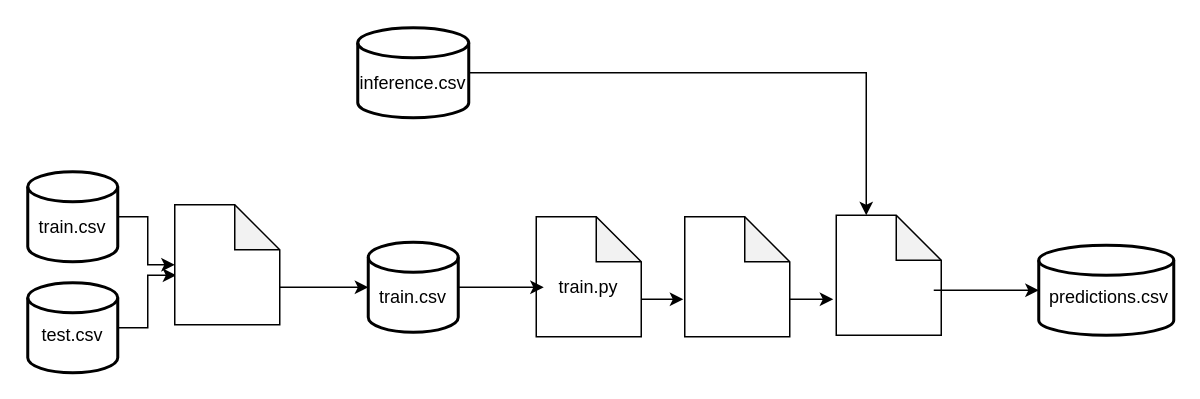
The diagram is 1200 pixels wide and 399 high, and some of its shapes have lost their labels. The shapes that lost their labels are listed below. From the top down, each one's box as (x1, y1, x2, y2) in pixels, then its label:
(173, 203, 280, 325): prep.py
(683, 215, 790, 337): model.sav
(835, 214, 941, 335): inference.py
